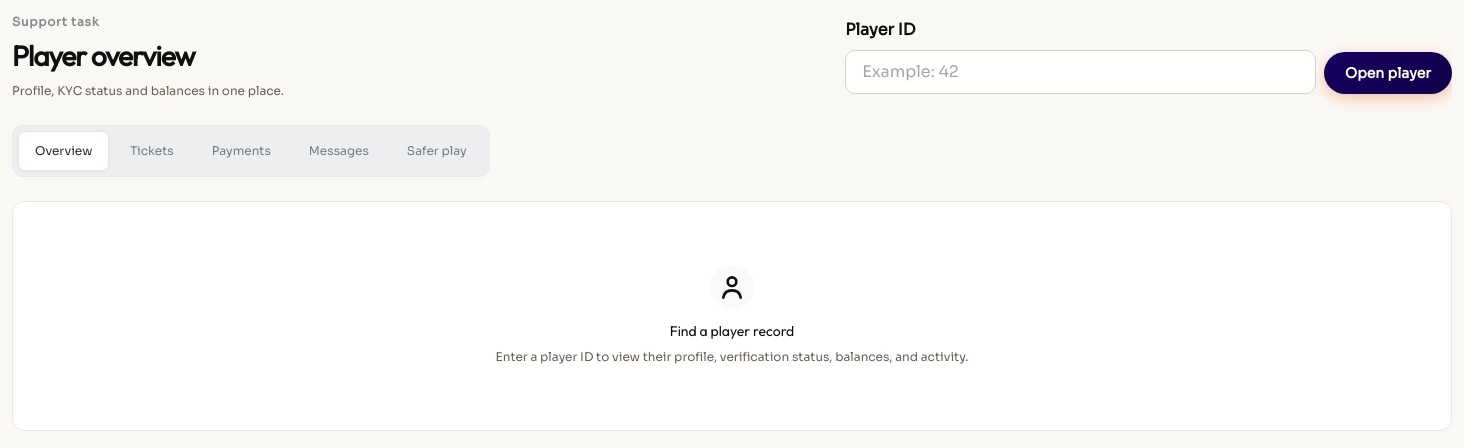
Scenario: Player360 › shows a real not-found state on a 404, not a fabricated fallback player
The image size is (1464, 448).
Type "999" into the search field labelled "Player ID" at (1081, 72), box [845,50,1316,94]
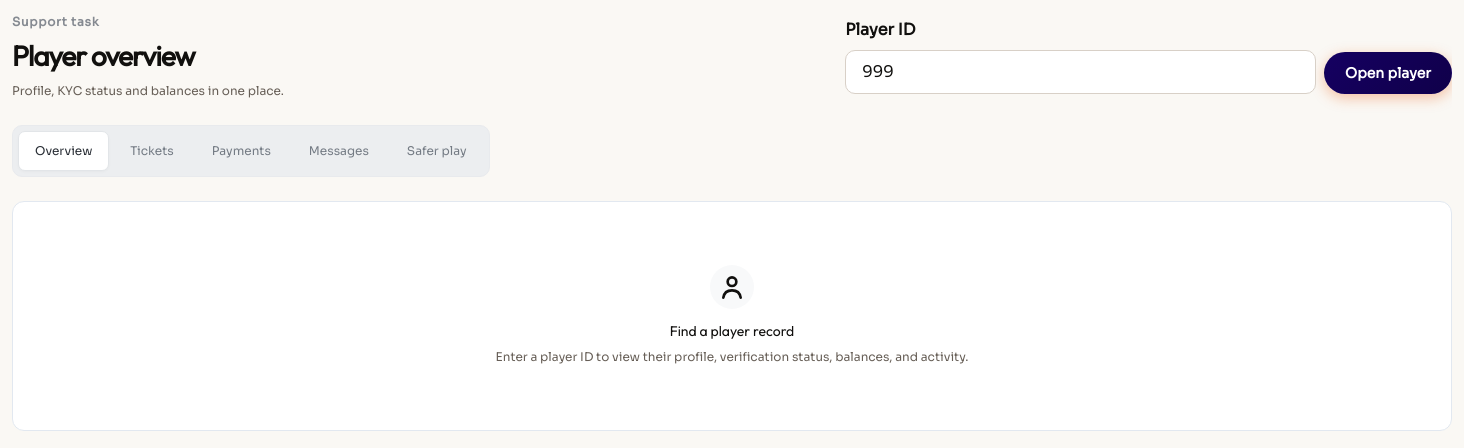
Click the button "Open player" at (1388, 74), box [1324,52,1452,94]
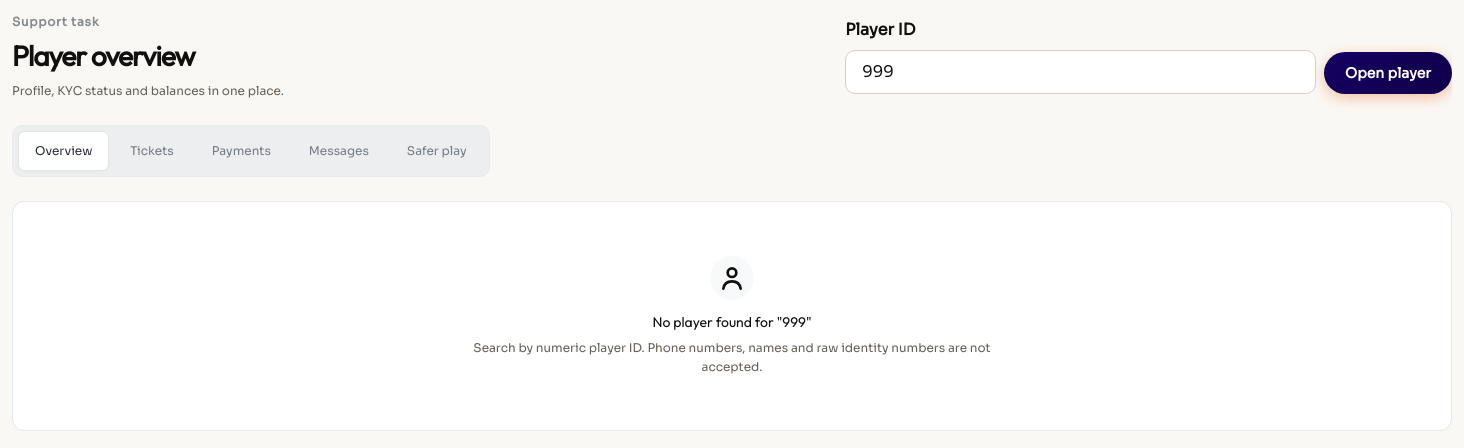
Expected: the heading "No player found for \"999\"" is shown, [652,313,812,331]
